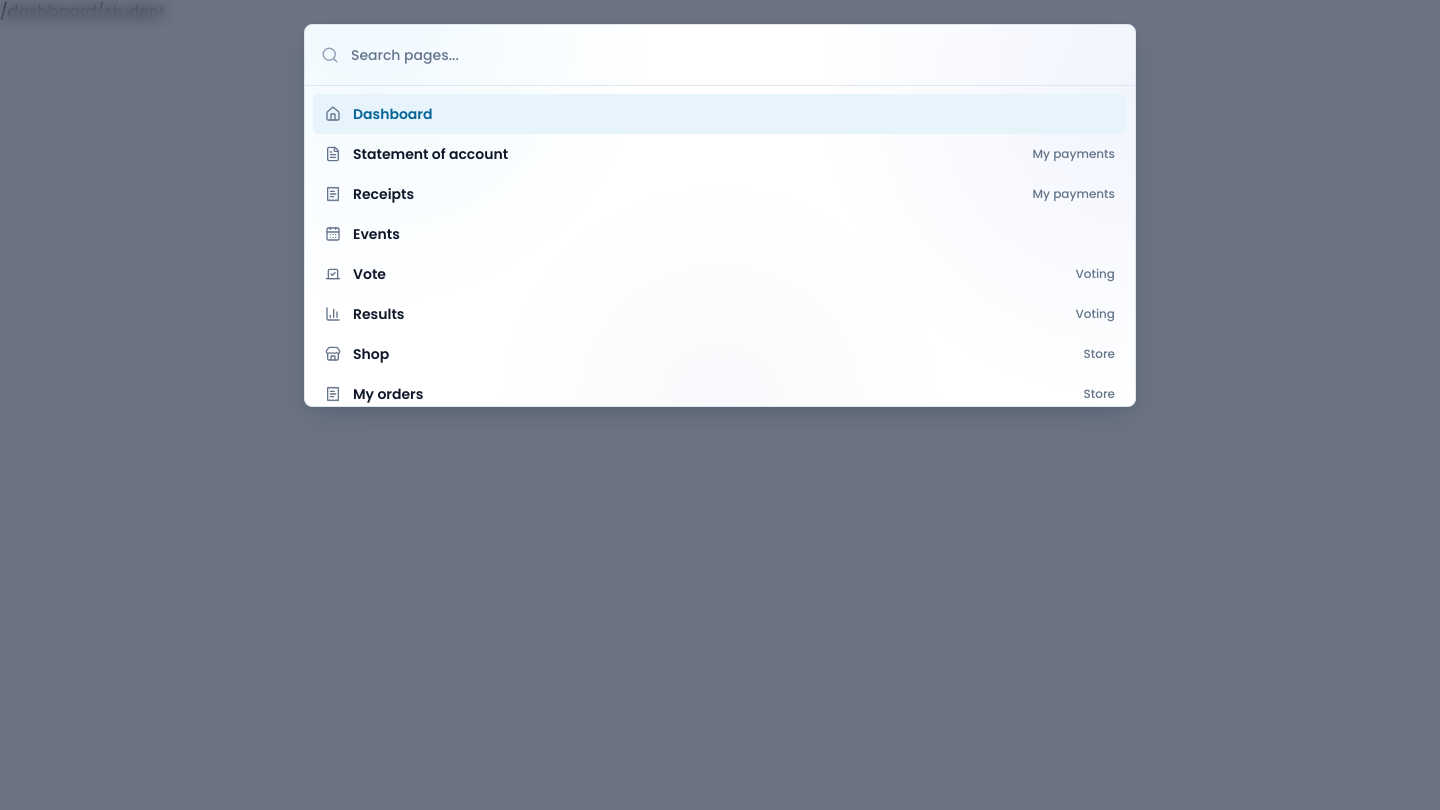
Test: CommandPalette › shows a viewport overlay and navigates to a role-available page with Enter
Type "Announcements Feed" into the dropdown labelled "Search pages" at {"x": 735, "y": 55}, box [351,37,1119,73]
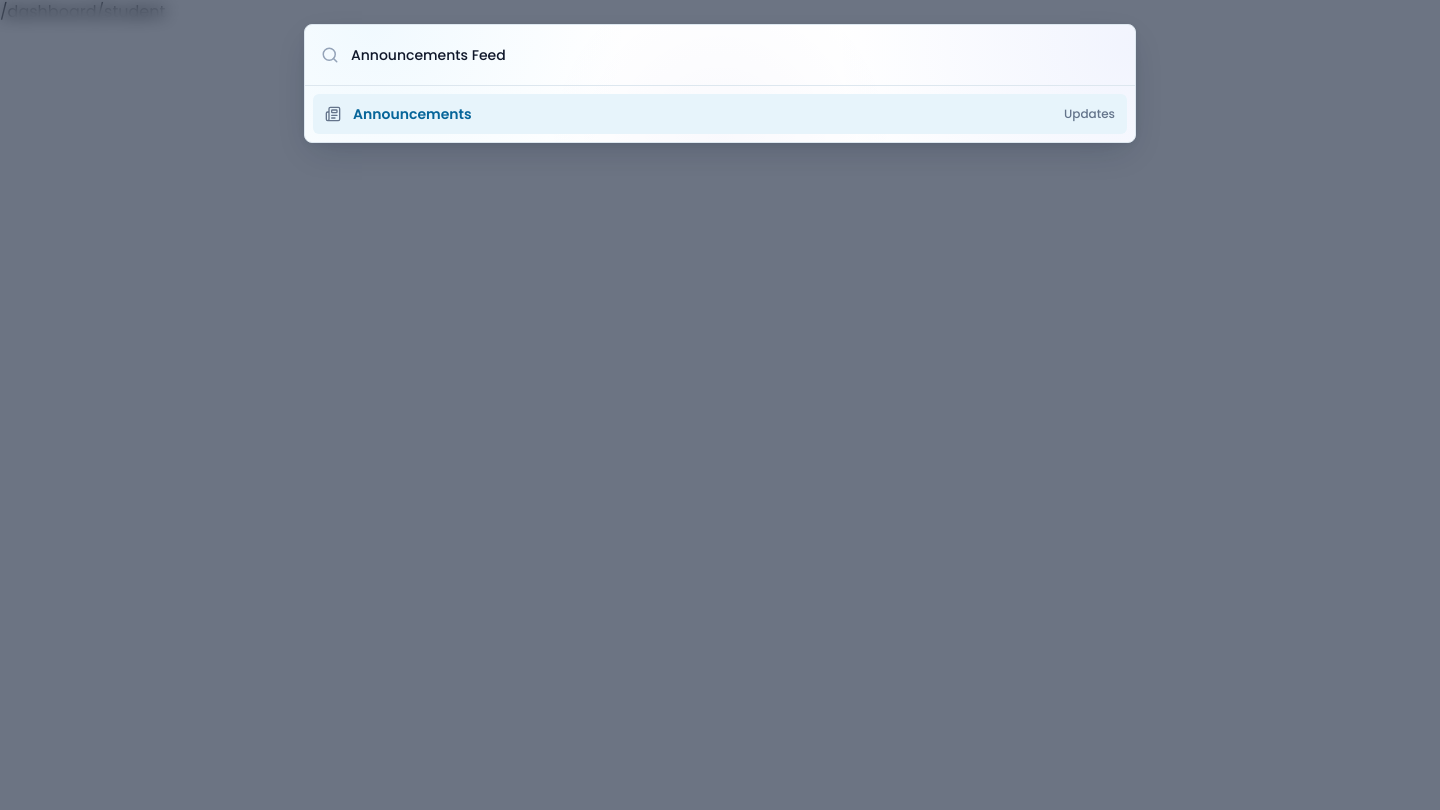
expect the number of options is 1: met, box [313,94,1127,134]
Press Enter in the dropdown named "Search pages", box [351,37,1119,73]
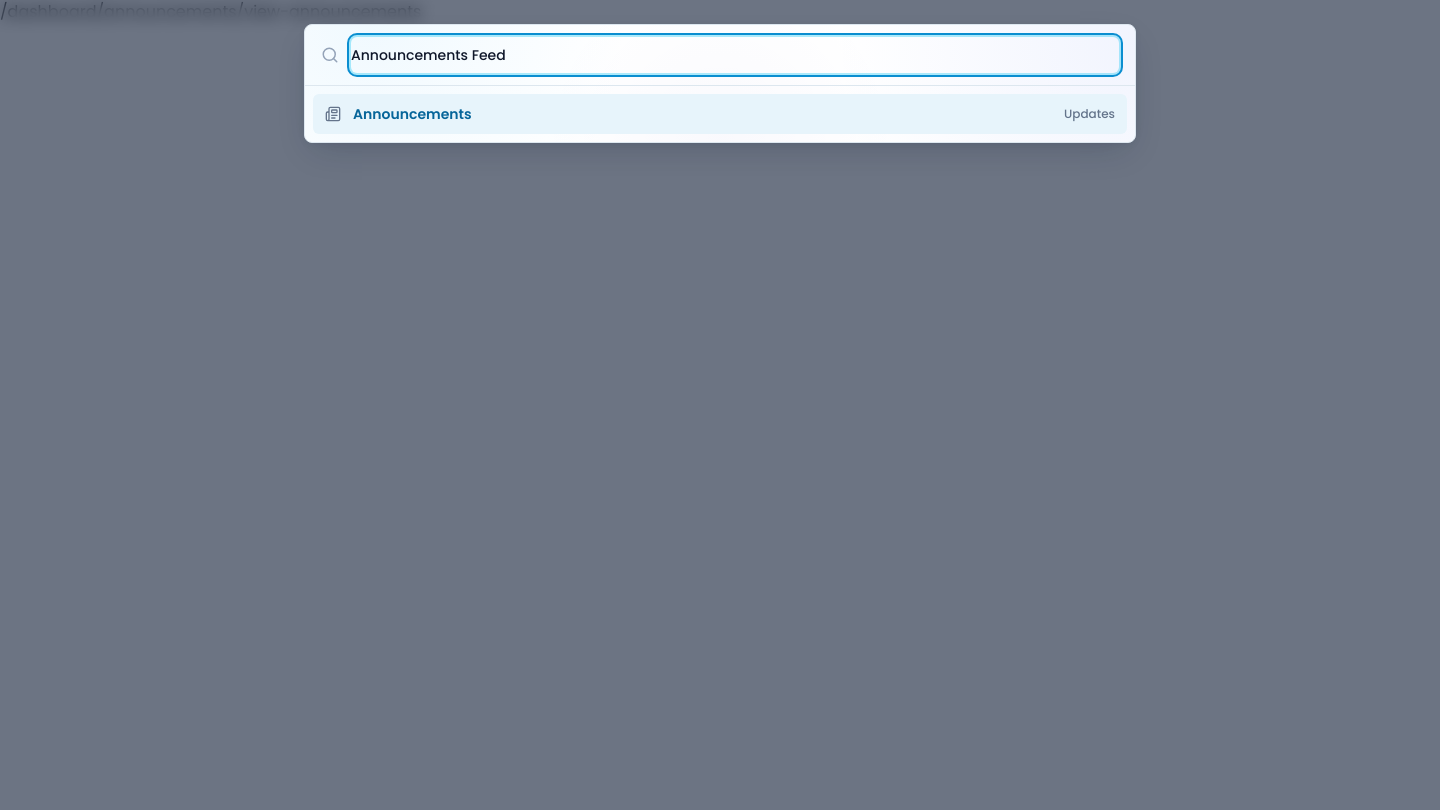
expect the text with test id "path" reads "/dashboard/announcements/view-announcements": met, box [0,0,421,23]
